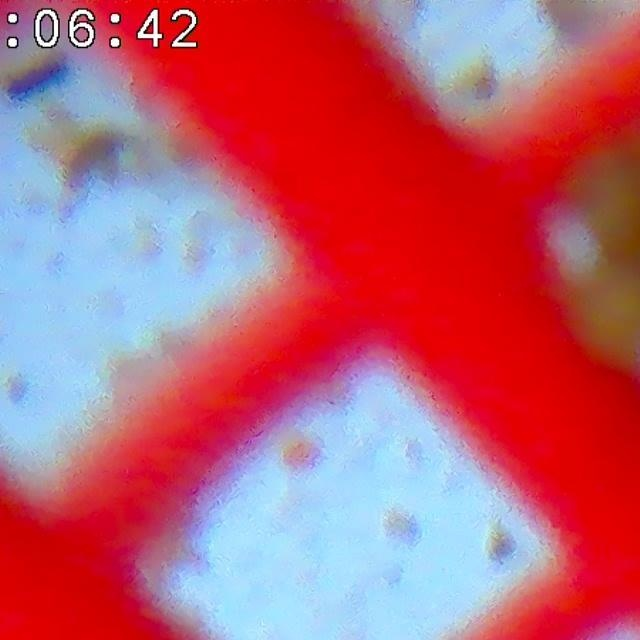SeaGrape: (568, 279, 640, 363)
